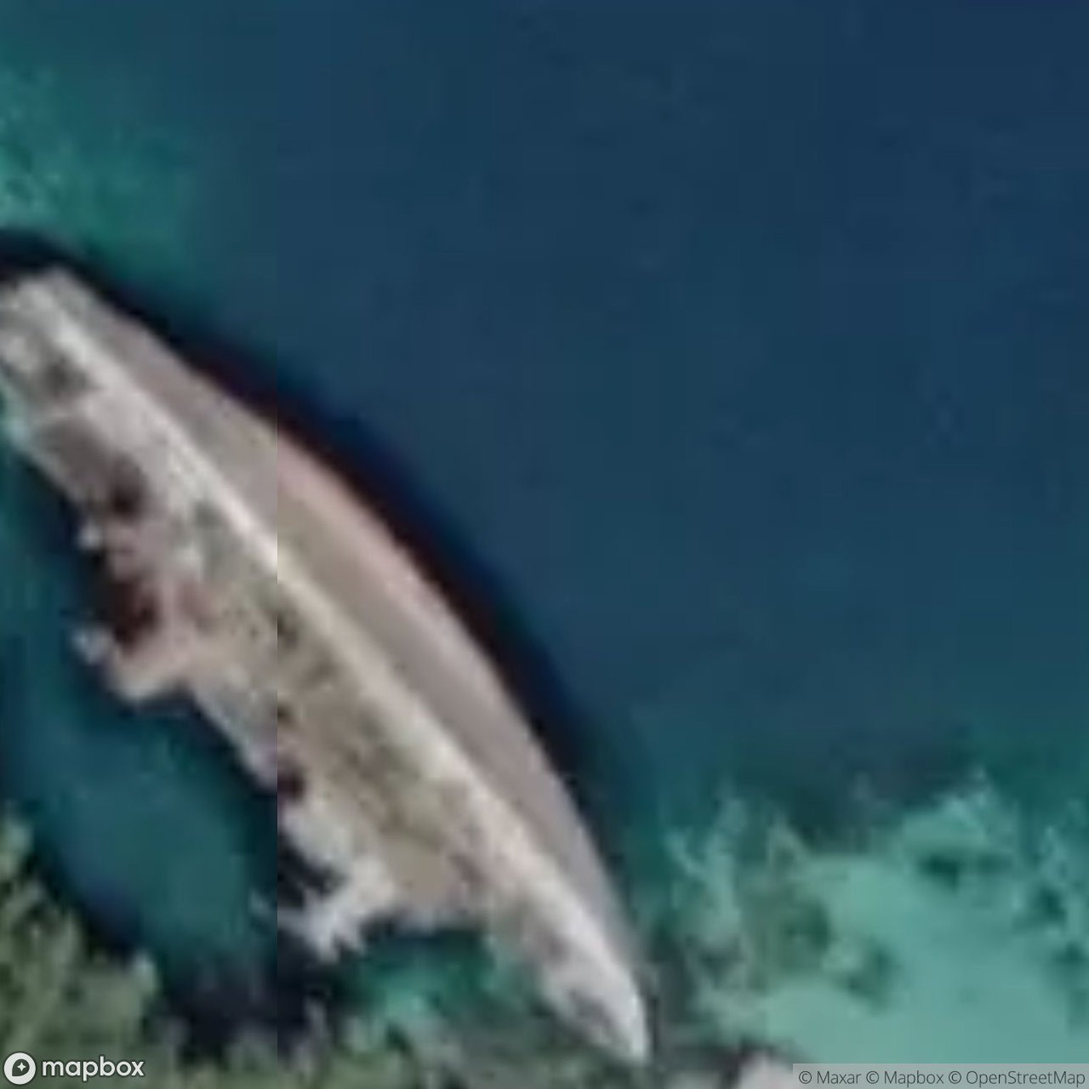Wreck: (0, 235, 678, 1078)
